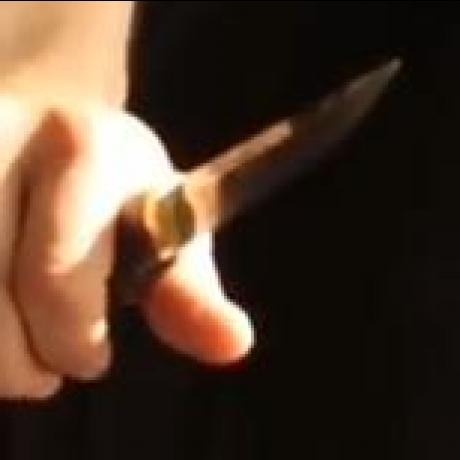1: (0, 0, 257, 399)
weapon: (134, 52, 406, 273)
